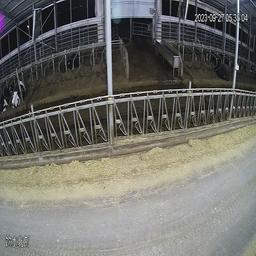cow: (10, 70, 29, 113), (210, 51, 231, 84), (60, 47, 82, 75), (1, 76, 12, 119)
